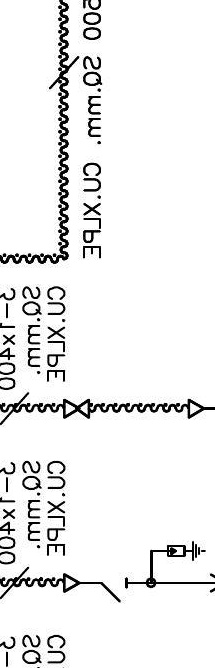terminator_single: (186, 398, 205, 420), (62, 572, 80, 594)
terminator_splicing_kits: (62, 398, 90, 419)
